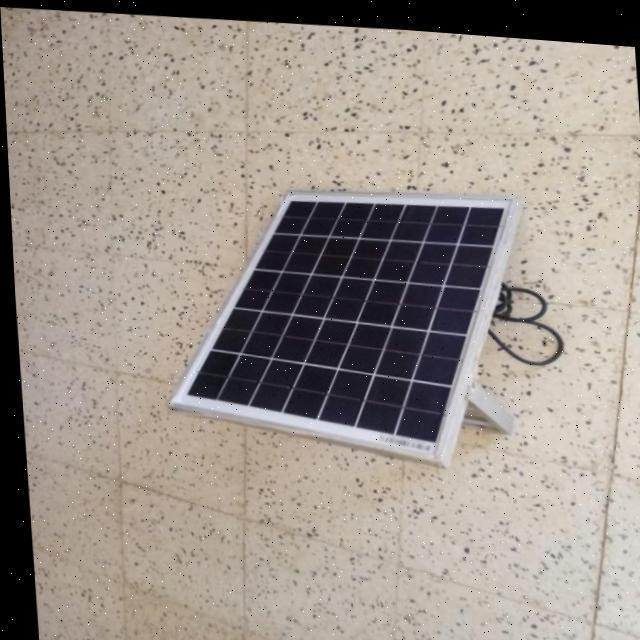Normal Solar Panel: (152, 172, 526, 464)
